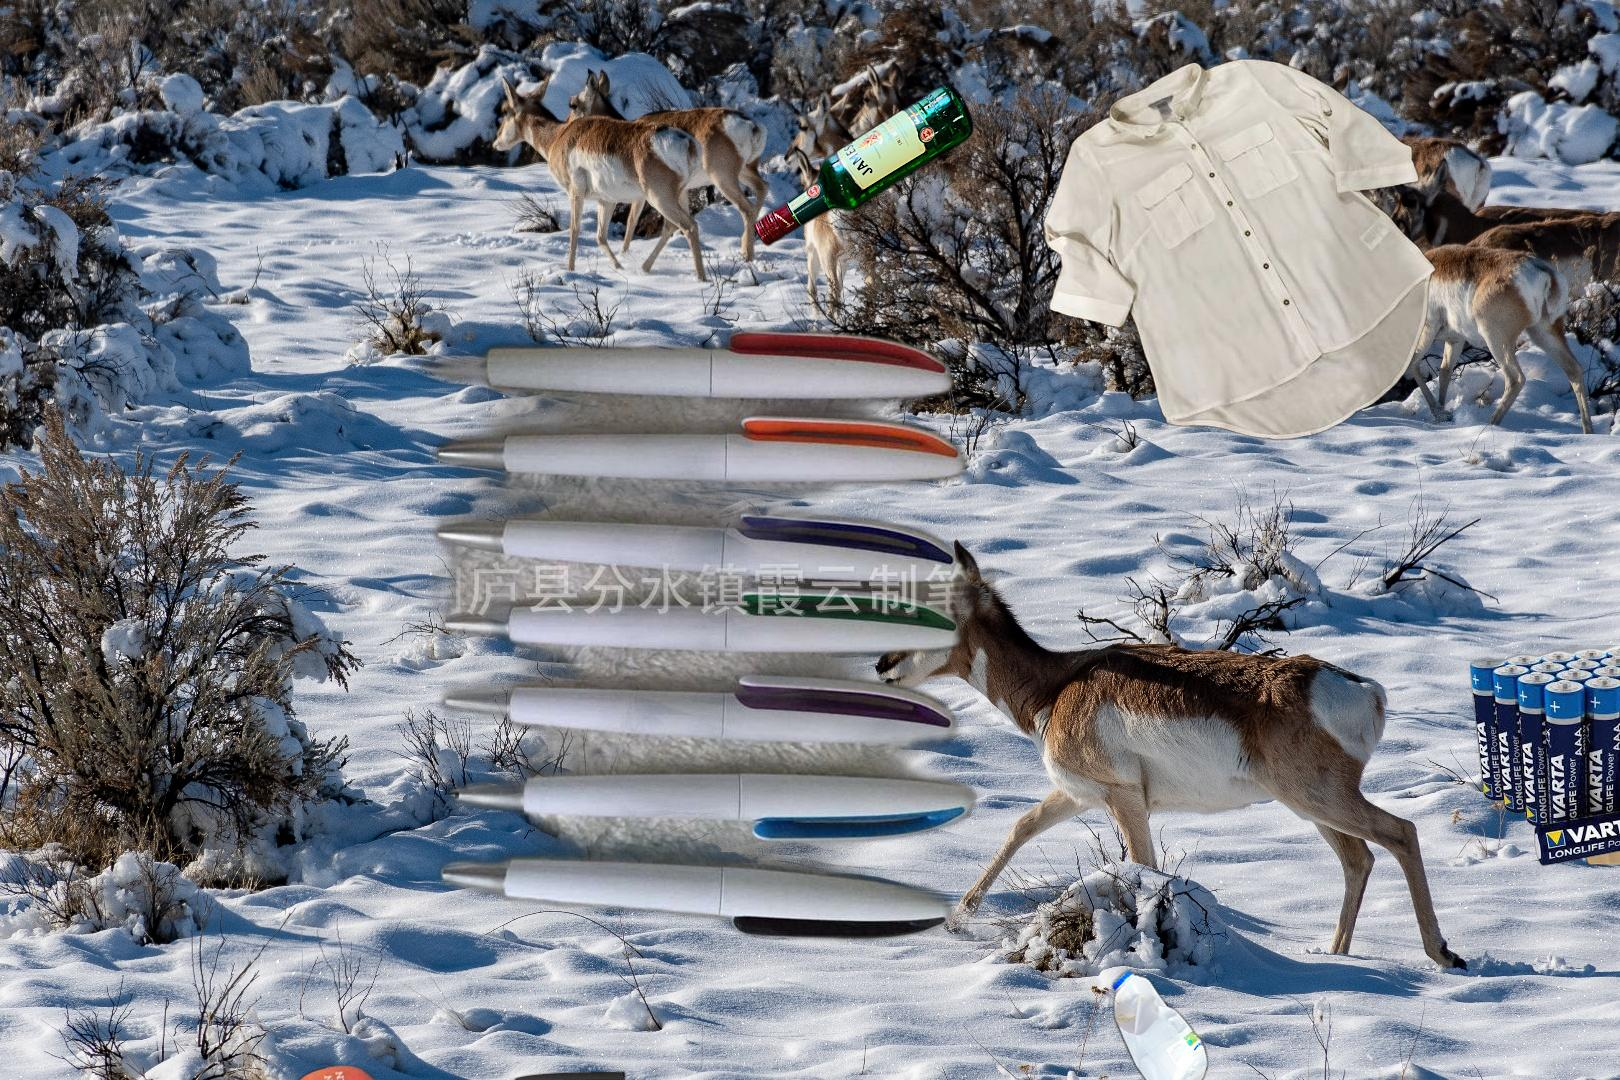battery: (1471, 645, 1620, 865)
clothes: (1039, 55, 1439, 444)
glass: (749, 78, 978, 252)
paper: (154, 733, 394, 1080)
paper-bag: (1565, 749, 1620, 868)
penholder: (403, 321, 1098, 1080), (483, 1069, 963, 1080)
plastic-bottles: (875, 964, 1213, 1080)
